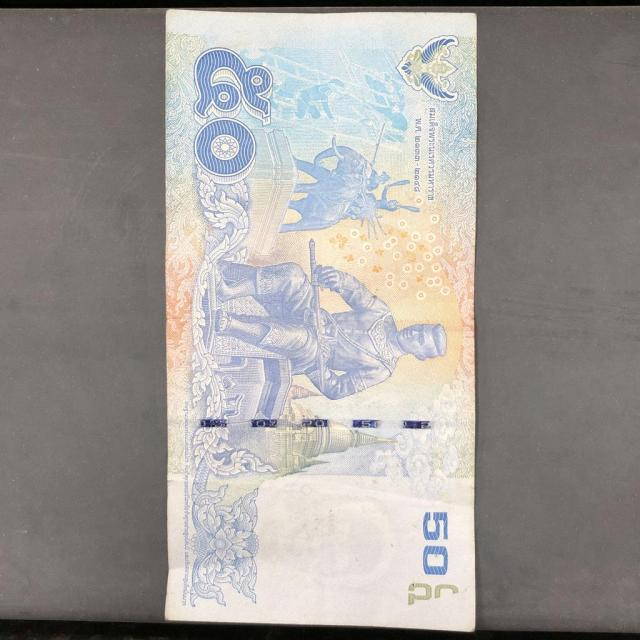THAI50: (165, 9, 476, 629)
